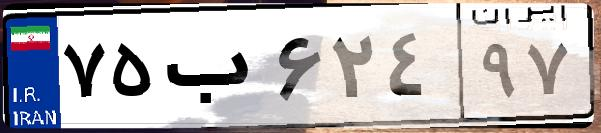2: (330, 28, 385, 110)
4: (385, 28, 445, 110)
5: (110, 28, 158, 98)
6: (270, 28, 330, 110)
7: (57, 26, 110, 100), (525, 38, 570, 115)
9: (475, 38, 525, 113)
ب: (158, 20, 270, 120)
